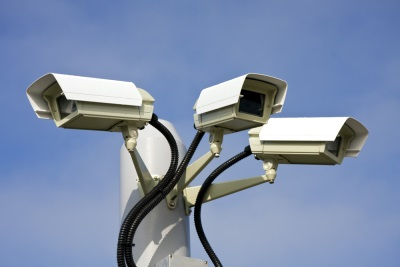CC Camera: (24, 69, 155, 133), (189, 70, 290, 138), (248, 114, 376, 167)
